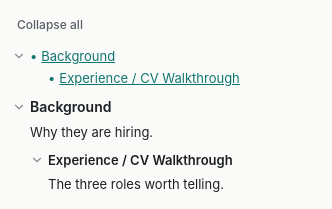
Test: fragment links › opens the fold the heading is inside when it follows the link itself
The width and height of the screenshot is (332, 209).
Click the button with aria-label "Collapse all points in Screen": (50, 25) [12,12,88,38]
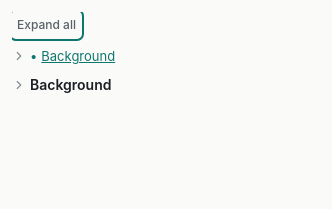
Check: the text "Why they are hiring." is gone
Click the link "Background": (78, 56) [41,48,115,64]
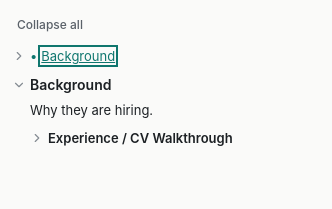
Check: the heading "Background" is shown, box [12,76,112,93]
Check: the text "Why they are hiring." is shown, box [30,102,153,118]
